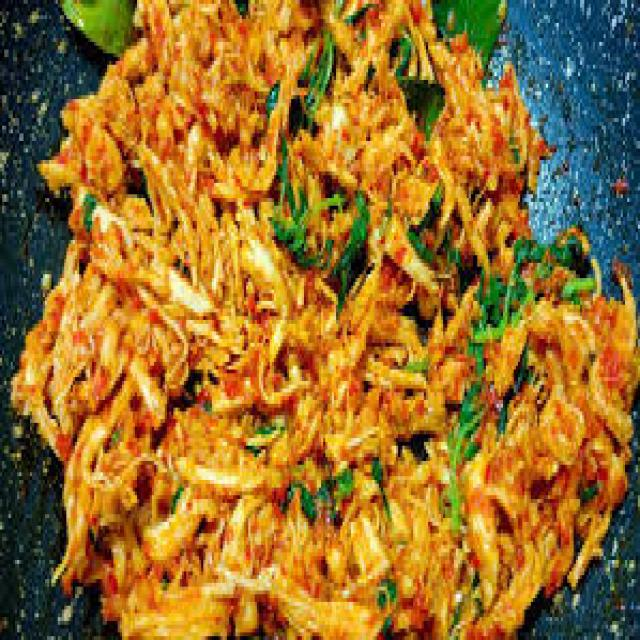ayam_suwir: (17, 0, 627, 639)
